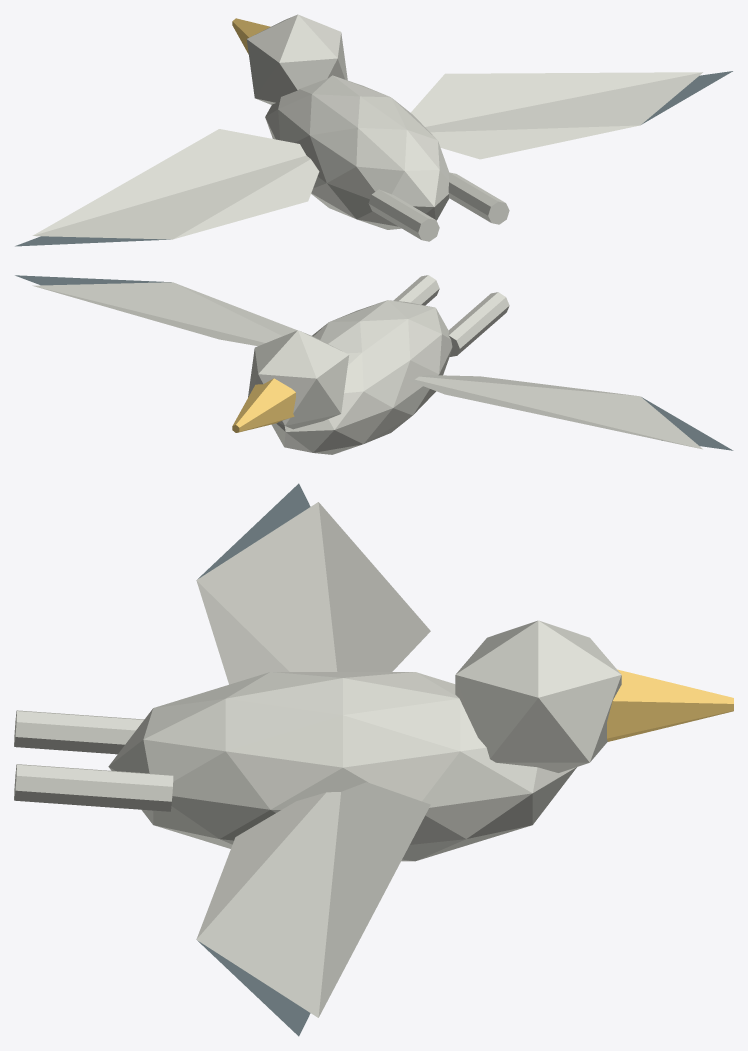
File: maage.glb
3 renders of one model, top to bottom at view 1: azimuth 30°, elevation 25°; view 2: azimuth 150°, elevation 25°; view 3: azimuth 270°, elevation 25°, orthographic. The views are drawn at different scales.
Parts seen in each view (by area): view 1: Maage_vinge_venstre, Maage_vinge_hoejre, Maage_krop, Maage_hoved, Maage_hale, Maage_hale.001, Maage_tip_venstre, Maage_tip_hoejre, Maage_naeb; view 2: Maage_krop, Maage_vinge_venstre, Maage_vinge_hoejre, Maage_hoved, Maage_naeb, Maage_hale, Maage_hale.001, Maage_tip_hoejre, Maage_tip_venstre; view 3: Maage_krop, Maage_vinge_hoejre, Maage_vinge_venstre, Maage_hoved, Maage_hale.001, Maage_naeb, Maage_hale, Maage_tip_hoejre, Maage_tip_venstre.
Part boxes in pixels (x1=…): Maage_vinge_venstre: x1=32, y1=129, x2=319, y2=239; Maage_vinge_hoejre: x1=411, y1=72, x2=702, y2=159; Maage_krop: x1=265, y1=75, x2=449, y2=229; Maage_hoved: x1=246, y1=14, x2=347, y2=104; Maage_hale: x1=368, y1=189, x2=439, y2=241; Maage_hale.001: x1=448, y1=172, x2=509, y2=224; Maage_tip_venstre: x1=15, y1=236, x2=170, y2=246; Maage_tip_hoejre: x1=641, y1=71, x2=732, y2=124; Maage_naeb: x1=232, y1=18, x2=270, y2=54; Maage_krop: x1=271, y1=300, x2=452, y2=454; Maage_vinge_venstre: x1=406, y1=375, x2=702, y2=449; Maage_vinge_hoejre: x1=32, y1=282, x2=296, y2=345; Maage_hoved: x1=248, y1=330, x2=349, y2=429; Maage_naeb: x1=232, y1=378, x2=295, y2=432; Maage_hale: x1=448, y1=292, x2=509, y2=356; Maage_hale.001: x1=393, y1=275, x2=439, y2=305; Maage_tip_hoejre: x1=15, y1=275, x2=171, y2=285; Maage_tip_venstre: x1=641, y1=397, x2=733, y2=450; Maage_krop: x1=108, y1=672, x2=576, y2=861; Maage_vinge_hoejre: x1=196, y1=782, x2=430, y2=1017; Maage_vinge_venstre: x1=196, y1=502, x2=430, y2=684; Maage_hoved: x1=455, y1=620, x2=621, y2=772; Maage_hale.001: x1=14, y1=764, x2=173, y2=811; Maage_naeb: x1=607, y1=669, x2=733, y2=741; Maage_hale: x1=14, y1=710, x2=144, y2=754; Maage_tip_hoejre: x1=197, y1=940, x2=310, y2=1036; Maage_tip_venstre: x1=197, y1=483, x2=310, y2=579.
Size of the model in its own units: 2.68 by 0.53 by 1.47.
